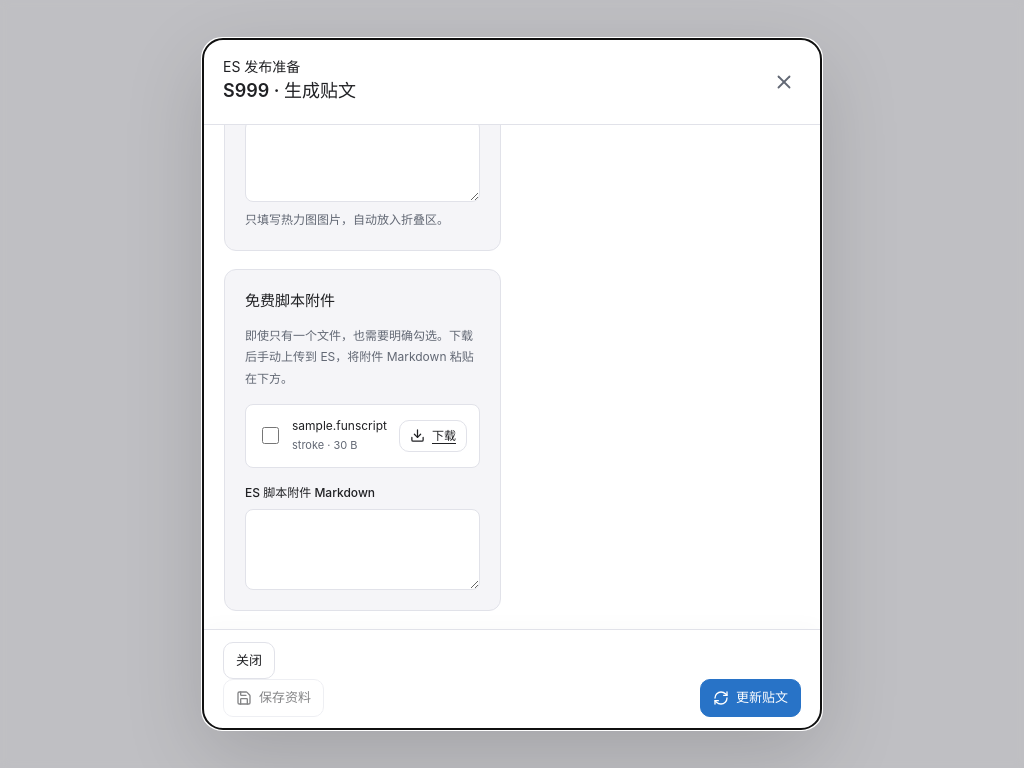
ES post editing and generation › saves explicit script and preview selection before generating with the new revision
The image size is (1024, 768).
(page scrolled)
Click the checkbox labelled "sample.funscript stroke · 30 B". click: point(270, 436)
box: [262,427,279,444]
(page scrolled)
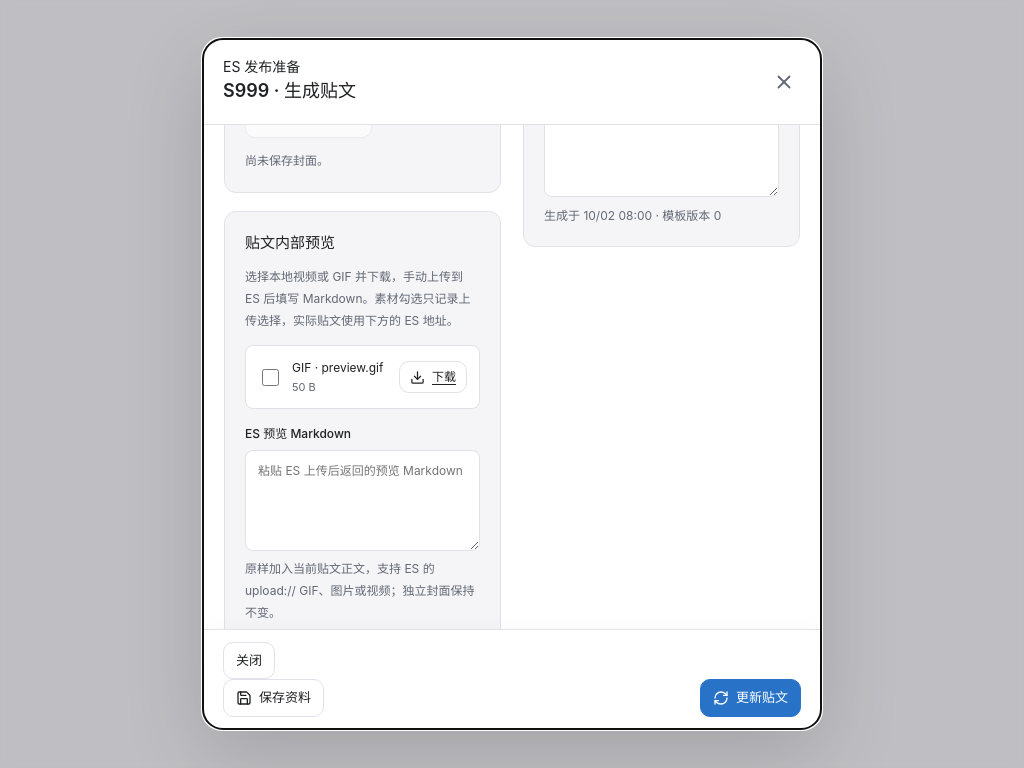
Click the checkbox named "正文预览素材：preview.gif". click: point(270, 377)
box: [262,369,279,386]
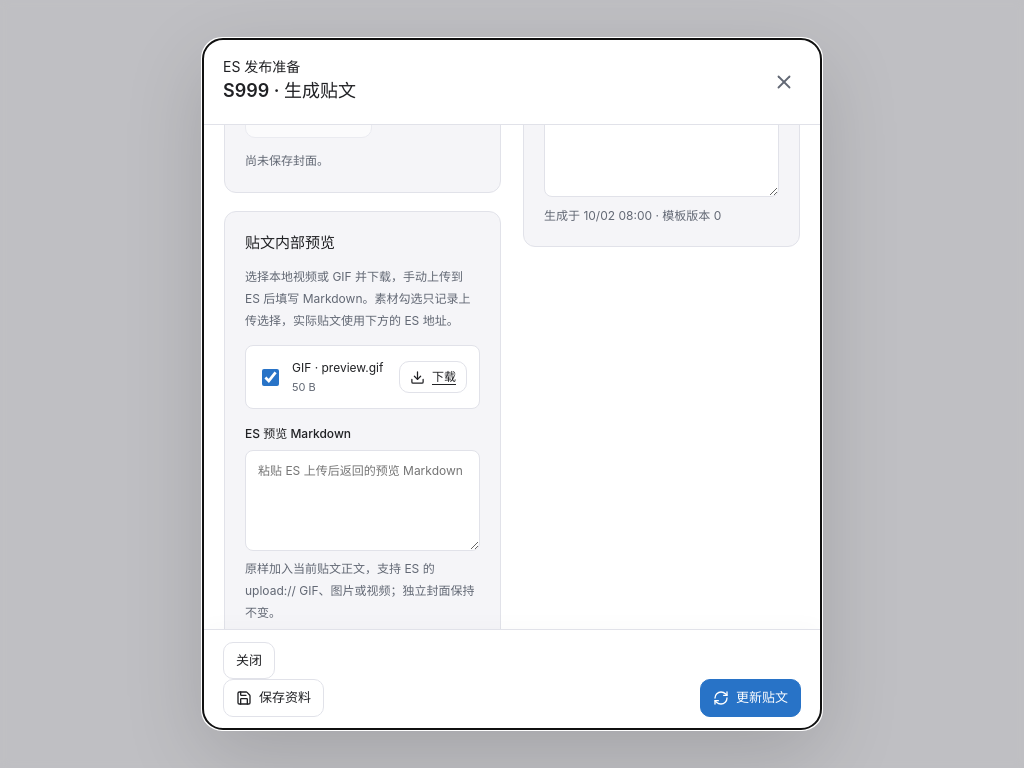
Type "![preview](upload://preview.gif)" into the text box labelled "ES 预览 Markdown". click: point(362, 501)
box: [245,450,480,551]
(page scrolled)
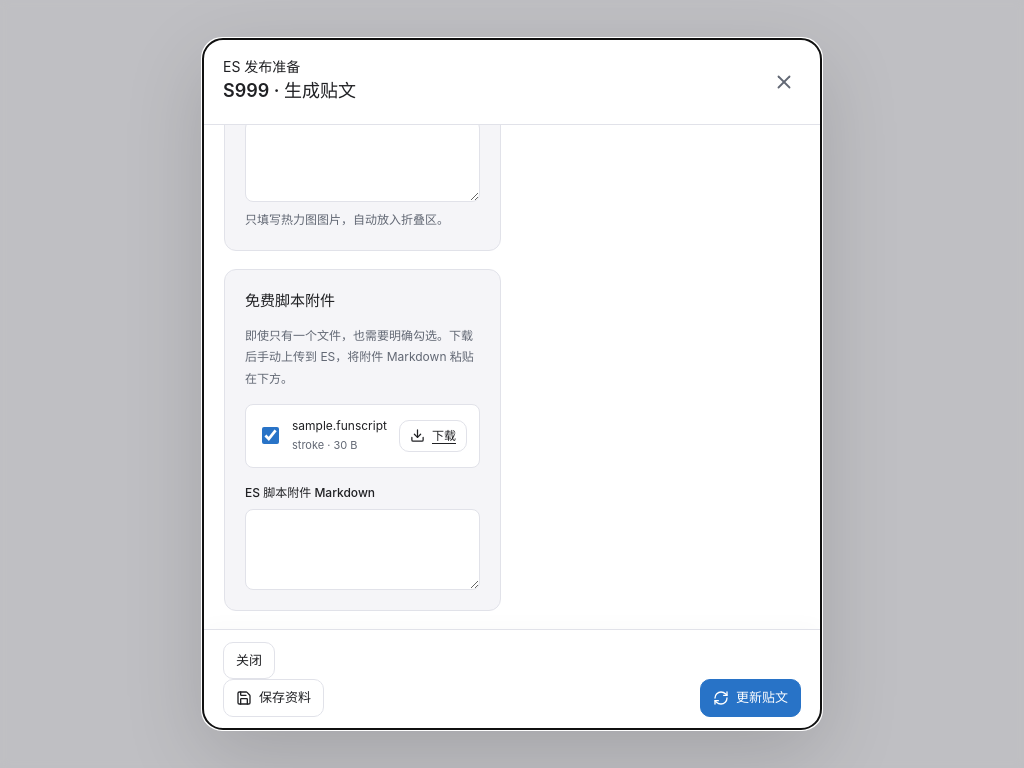
Type "[script](upload://sample.funscript)" into the text box labelled "ES 脚本附件 Markdown". click: point(362, 549)
box: [245,508,480,590]
(page scrolled)
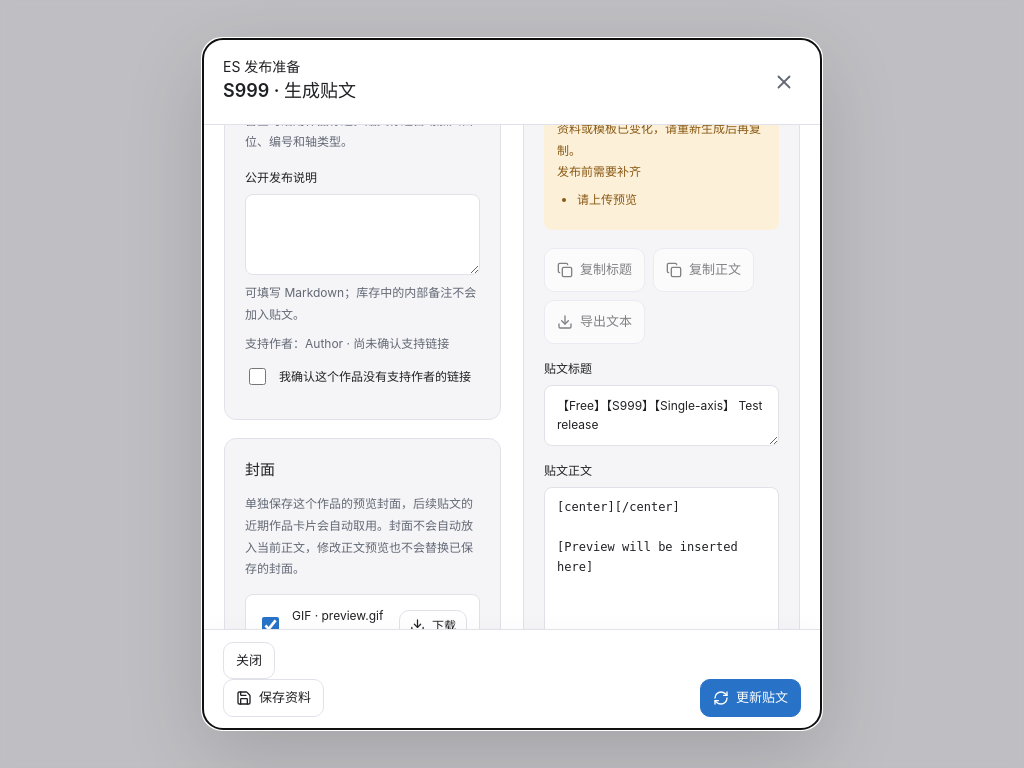
Click the checkbox labelled "我确认这个作品没有支持作者的链接". click: point(258, 377)
box: [249,368,266,385]
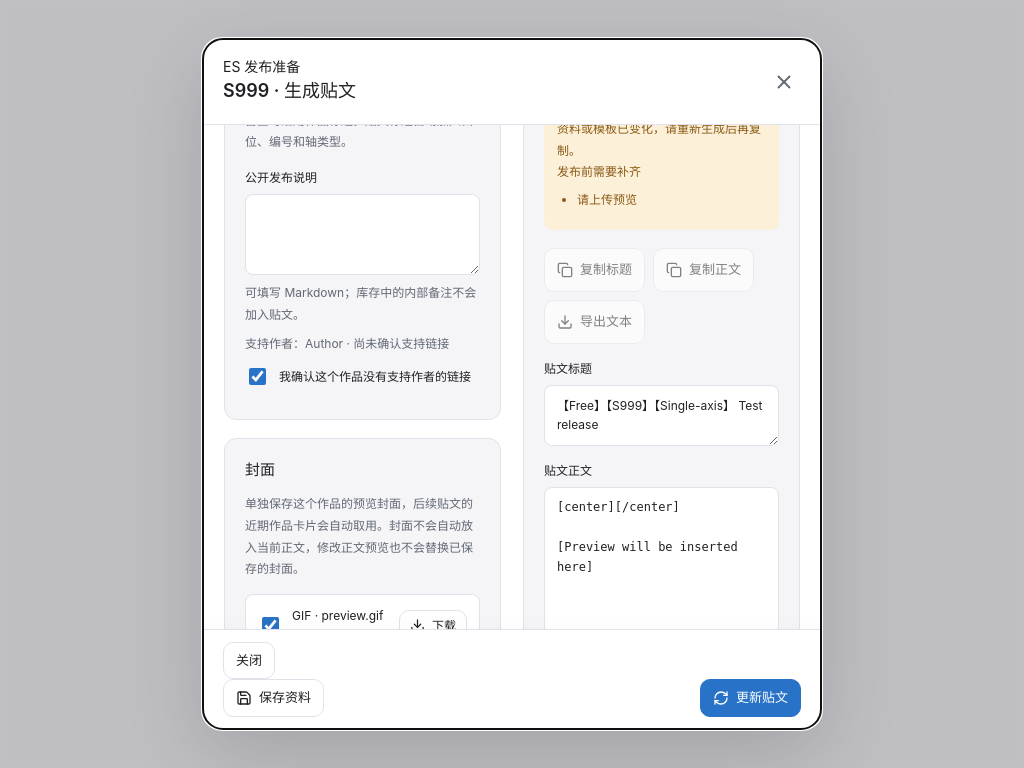
Check: the button "复制正文" is disabled, box [653,248,754,292]
Click the button "更新贴文". click: point(750, 698)
box: [700,679,801,717]
(page scrolled)
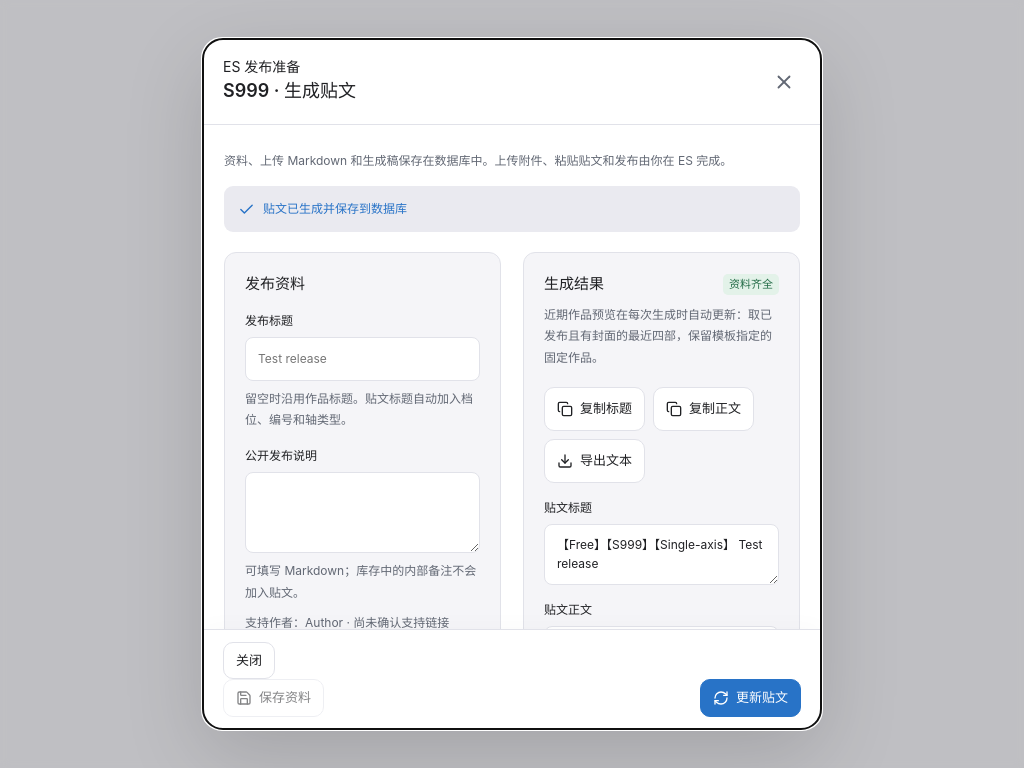
Check: the text "资料齐全" is shown, box [723,274,779,295]
